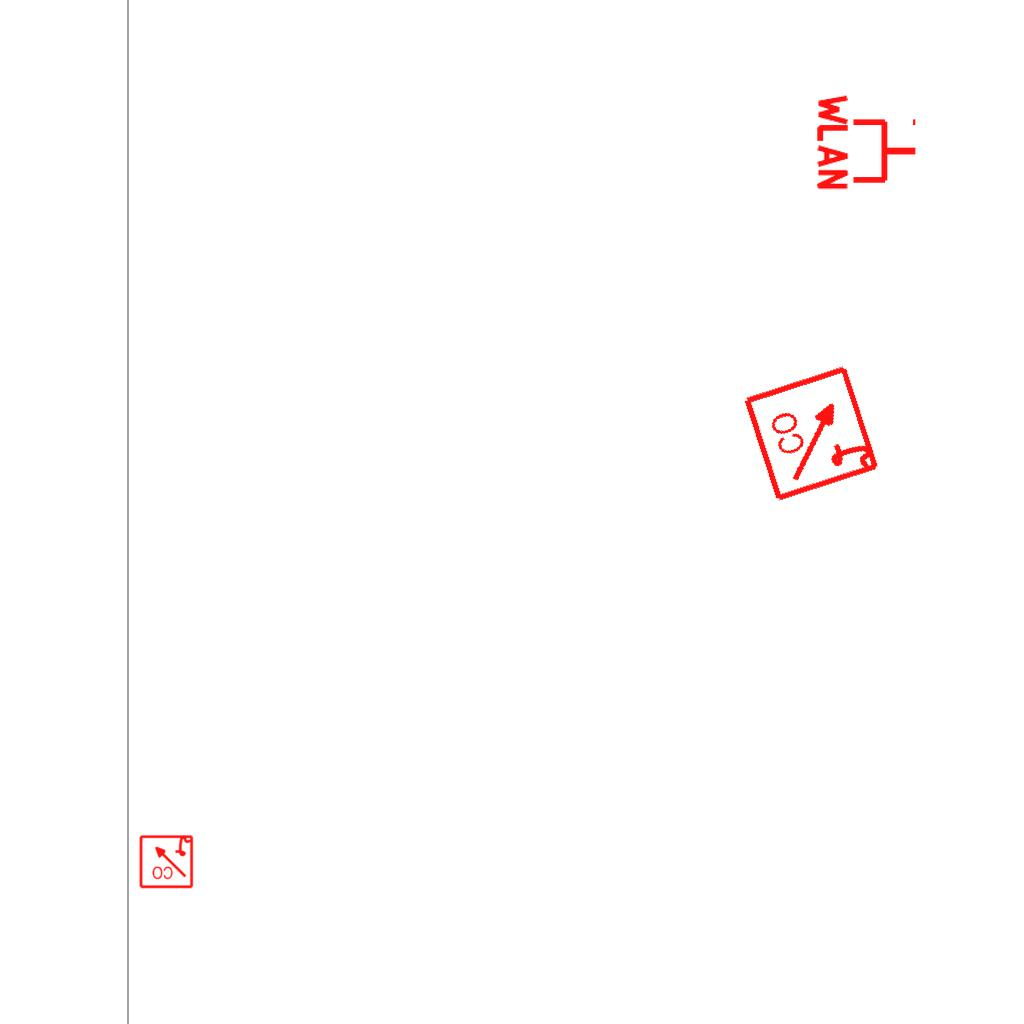ROA_Rauchmelder_optisch_mit_Signalgeber_(Sockelsirene): (741, 361, 884, 504), (138, 833, 194, 889)
WLAN: (815, 90, 920, 194)
